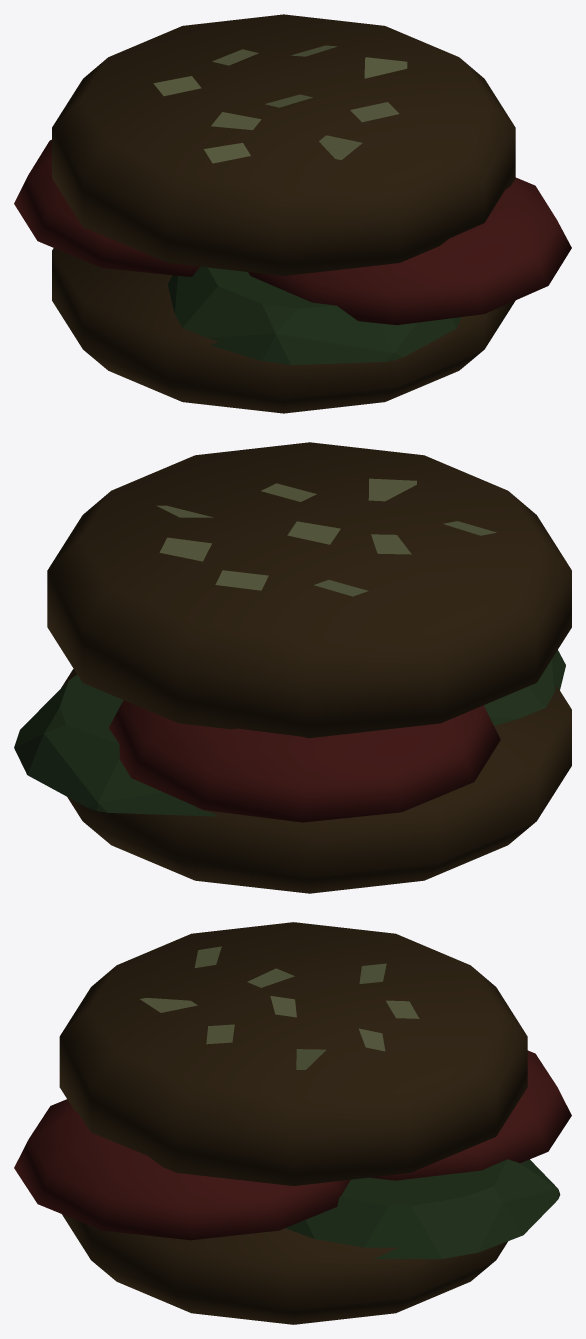
Rendered from Burger(LettuceAndTomatoNoMeat).glb.
3 renders of one model, top to bottom at view 1: azimuth 30°, elevation 25°; view 2: azimuth 150°, elevation 25°; view 3: azimuth 270°, elevation 25°, orthographic. The views are drawn at different scales.
Parts seen in each view (by area): view 1: Cylinder.042; view 2: Cylinder.042; view 3: Cylinder.042.
Part boxes in pixels (bbox=[...]): Cylinder.042: bbox=[14, 14, 571, 413]; Cylinder.042: bbox=[14, 442, 571, 893]; Cylinder.042: bbox=[14, 922, 571, 1324].
Bounding box in the file's own units: 0.4869 × 0.2636 × 0.5625.
